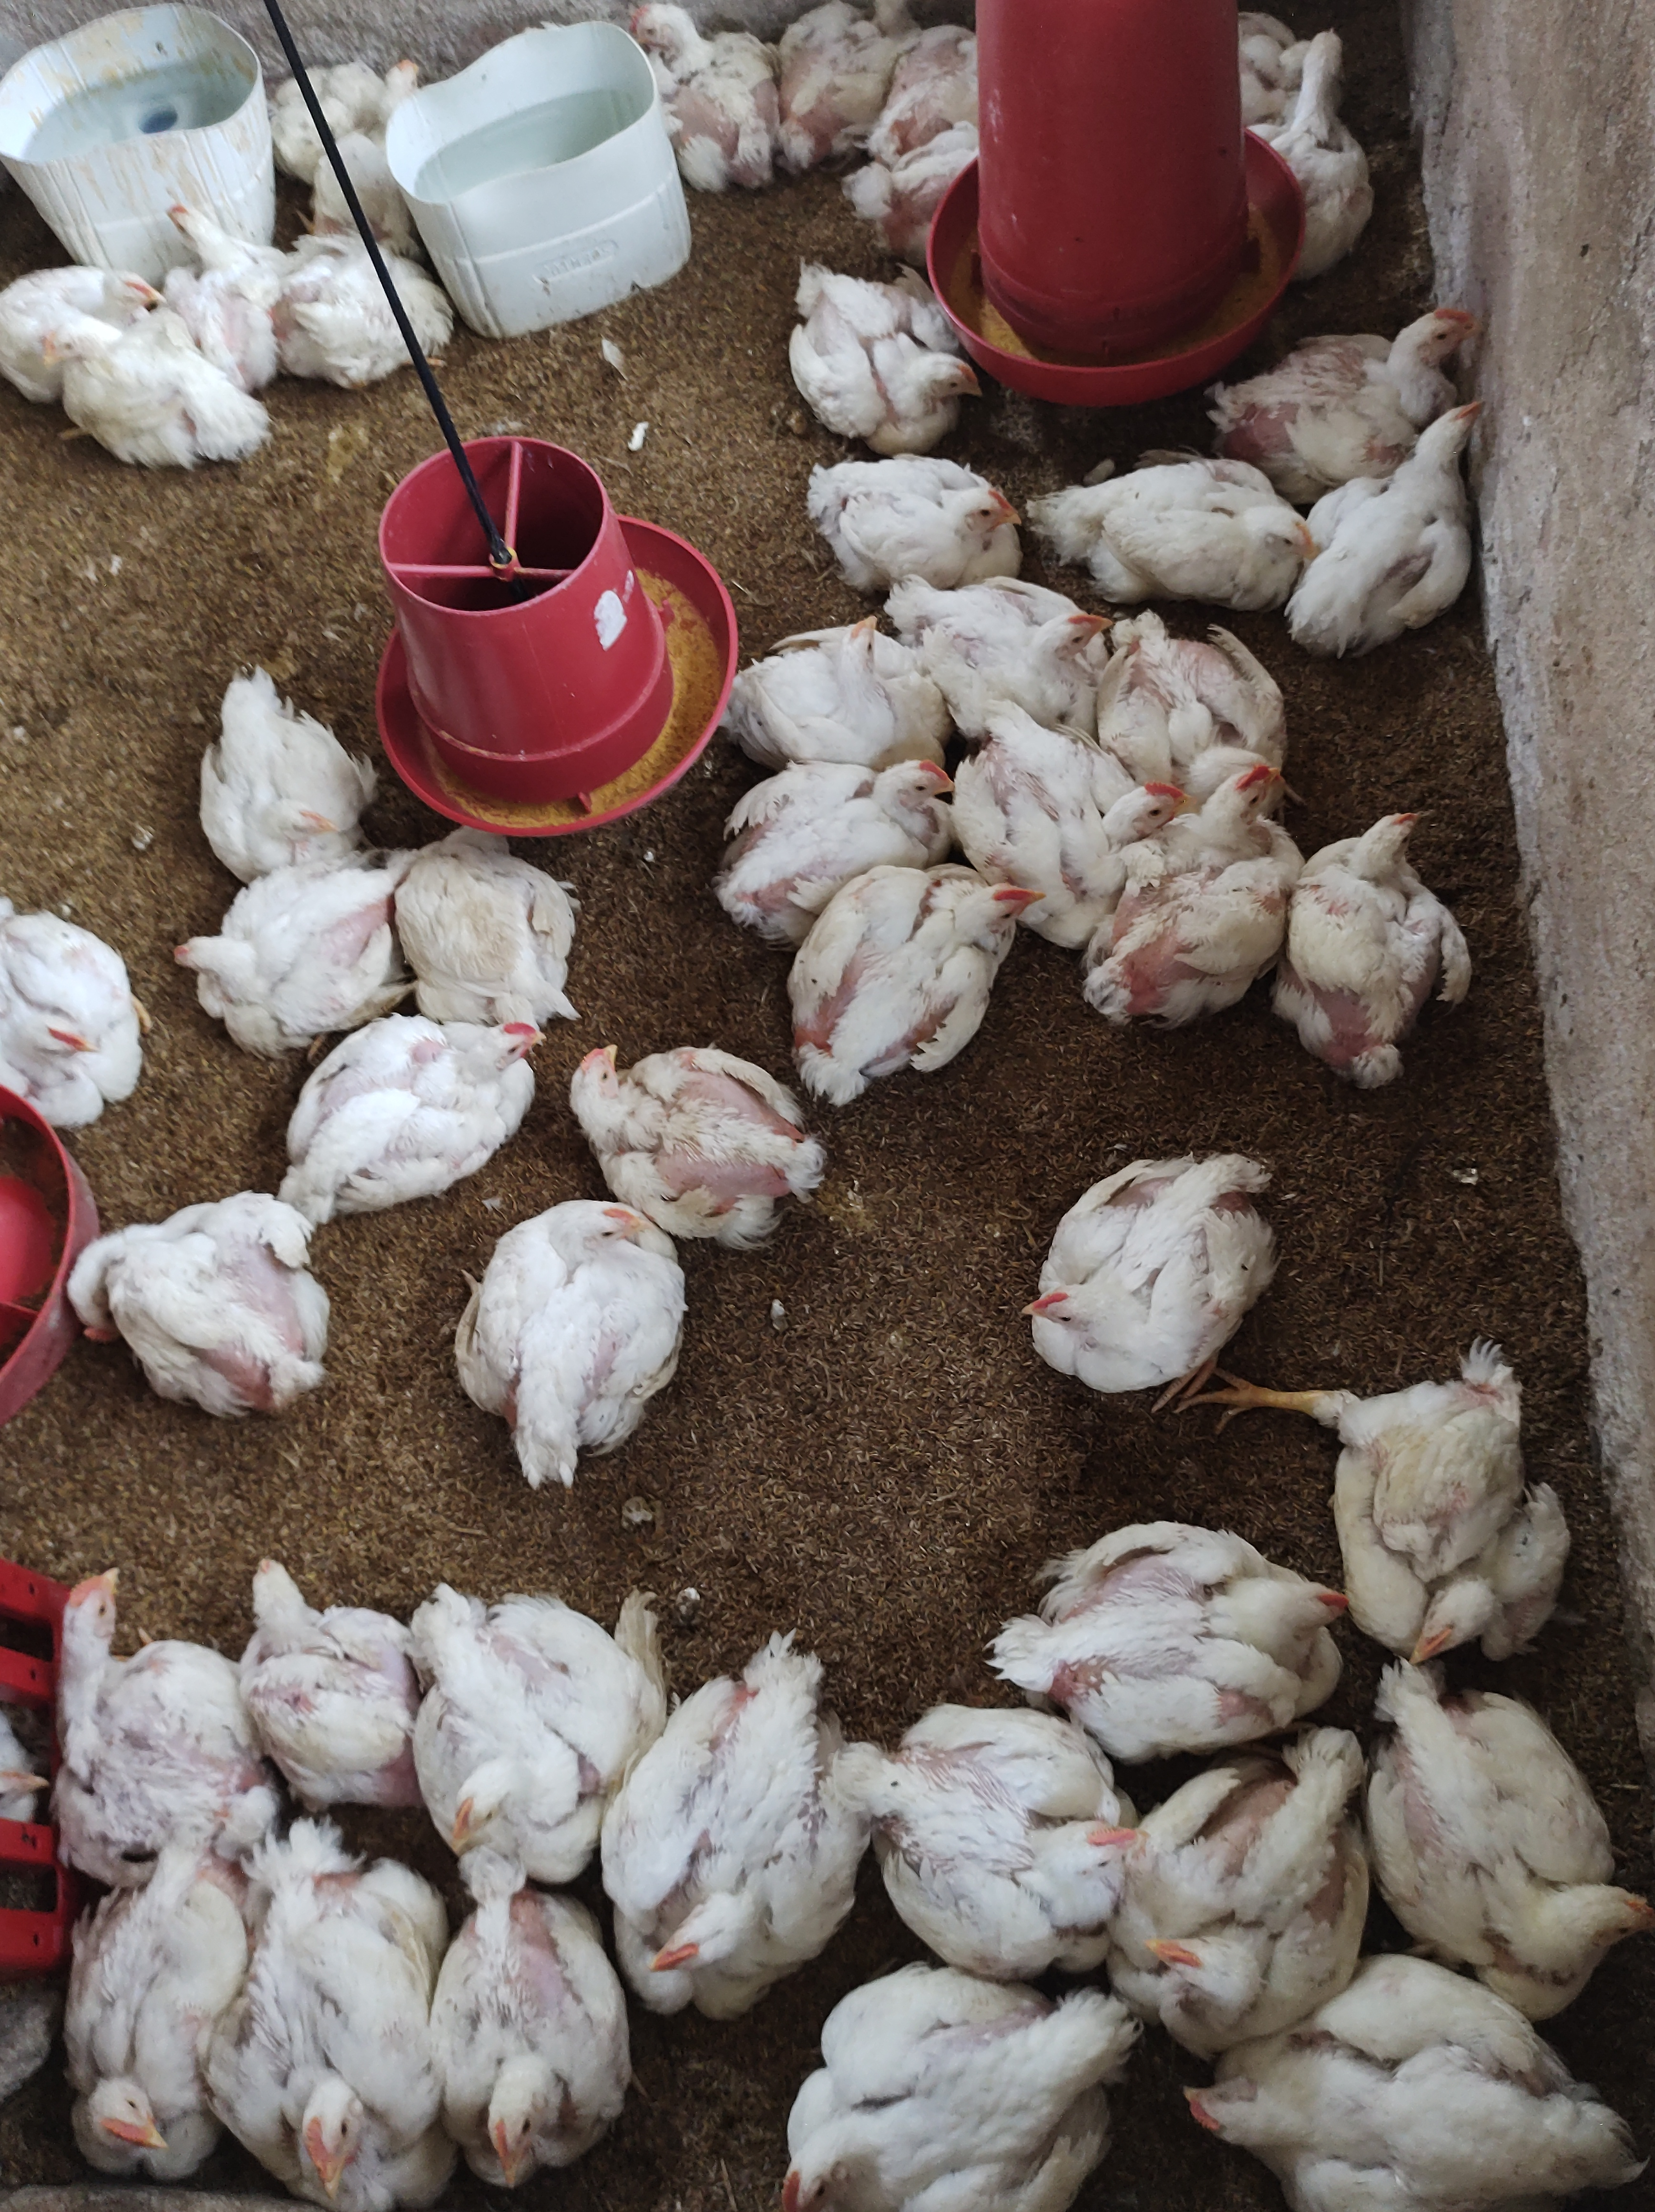Pollos: (1201, 1930, 1655, 2212), (774, 1935, 1158, 2212), (624, 1635, 861, 2017), (1332, 1325, 1584, 1668), (1022, 1136, 1332, 1412), (410, 1553, 662, 1892), (866, 1673, 1158, 1965), (1133, 1689, 1375, 2033), (226, 1838, 445, 2212), (1396, 1673, 1655, 1984), (1007, 1504, 1332, 1741), (424, 1857, 662, 2174), (66, 1184, 318, 1480), (52, 1556, 280, 1878), (469, 1149, 697, 1464), (216, 1523, 454, 1824), (47, 1854, 245, 2188), (275, 995, 565, 1223), (789, 861, 1069, 1083), (1293, 767, 1472, 1092), (565, 1043, 836, 1256), (1015, 449, 1333, 614), (1321, 395, 1530, 635), (1113, 779, 1318, 1019), (1248, 282, 1502, 471), (0, 873, 139, 1212), (163, 861, 405, 1052), (706, 743, 954, 927), (405, 823, 615, 1035), (788, 426, 1033, 595), (186, 664, 382, 863), (43, 310, 264, 471), (974, 718, 1187, 885), (1243, 17, 1382, 264), (845, 30, 1003, 245), (612, 0, 784, 197), (789, 252, 977, 426), (928, 551, 1113, 727), (728, 607, 947, 750), (278, 238, 468, 395), (1116, 584, 1273, 772), (290, 56, 445, 245), (0, 230, 160, 388), (756, 0, 904, 162), (156, 174, 268, 310), (0, 1716, 56, 1833)
